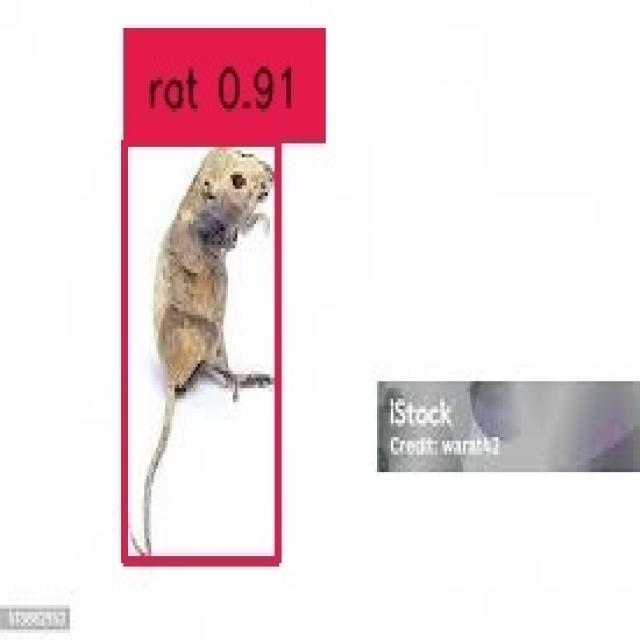rat: (121, 136, 275, 556)
